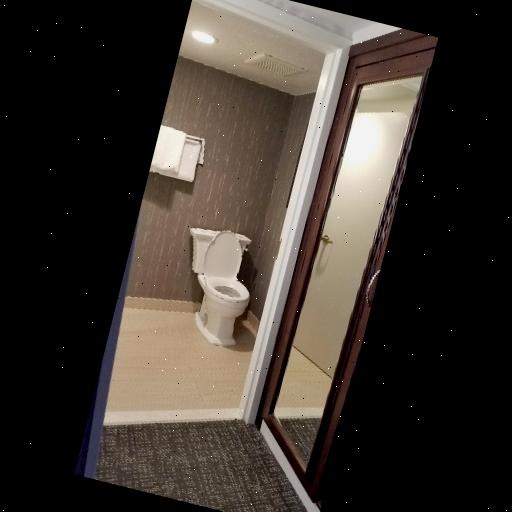clean mirror: (244, 56, 424, 460)
clean_floor: (97, 308, 305, 512)
clean_toilet: (164, 220, 269, 350)
folded_towel: (148, 119, 212, 186)
